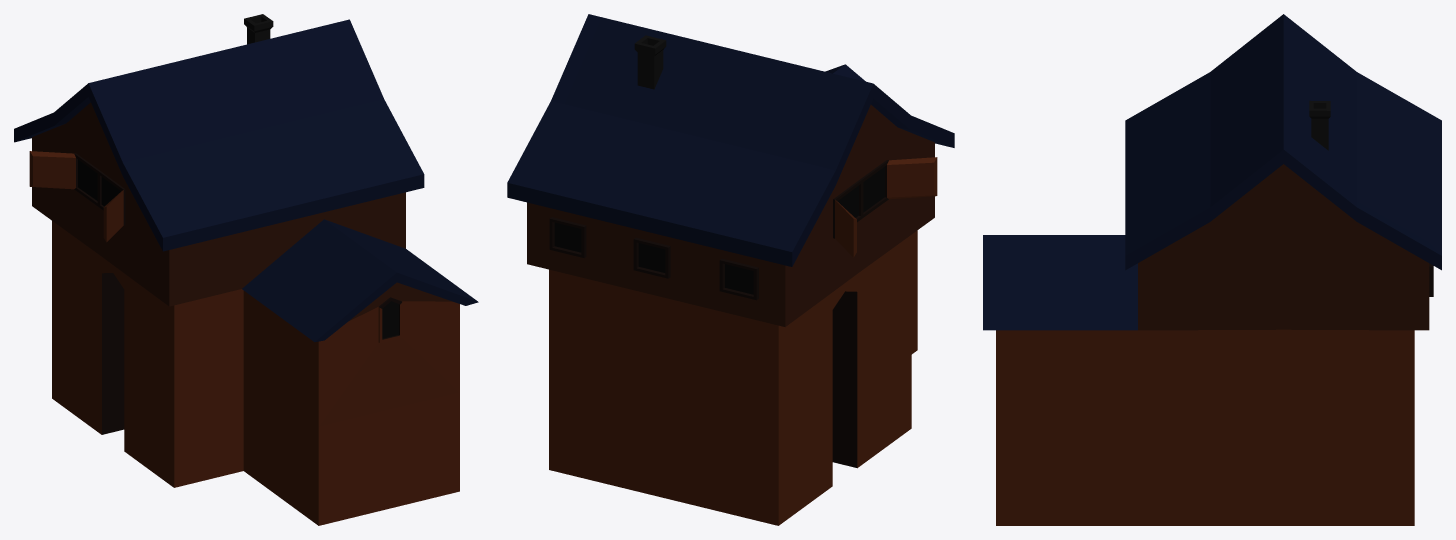
File: Huis_Uit.FBX
3 renders of one model, left to right at view 1: azimuth 30°, elevation 25°; view 2: azimuth 150°, elevation 25°; view 3: azimuth 270°, elevation 25°, orthographic. The views are drawn at different scales.
Parts seen in each view (by area): view 1: Box001, Object001; view 2: Box001, Object001; view 3: Box001, Object001.
Part boxes in pixels (box(x1,y1,x2,y2)): Box001: box(14, 14, 478, 426); Object001: box(52, 300, 459, 525); Box001: box(507, 14, 954, 417); Object001: box(549, 242, 917, 525); Box001: box(983, 14, 1441, 420); Object001: box(996, 420, 1414, 525).
Size of the model in its own units: 136 by 171 by 180.
